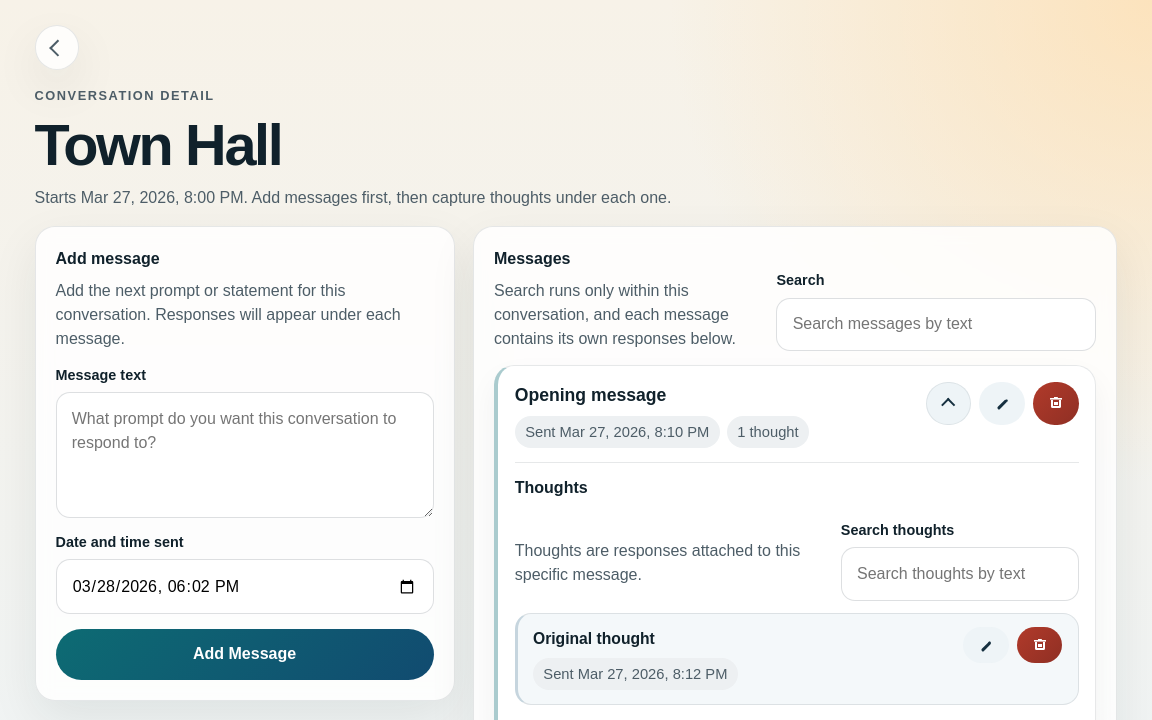
Test: ConversationDetailPage › collapses and expands a message card
The width and height of the screenshot is (1152, 720).
expect the heading "Thoughts" is shown: met, box [515,479,588,496]
Click the button named "Collapse message".
click(949, 403)  # box [926,382,972,425]
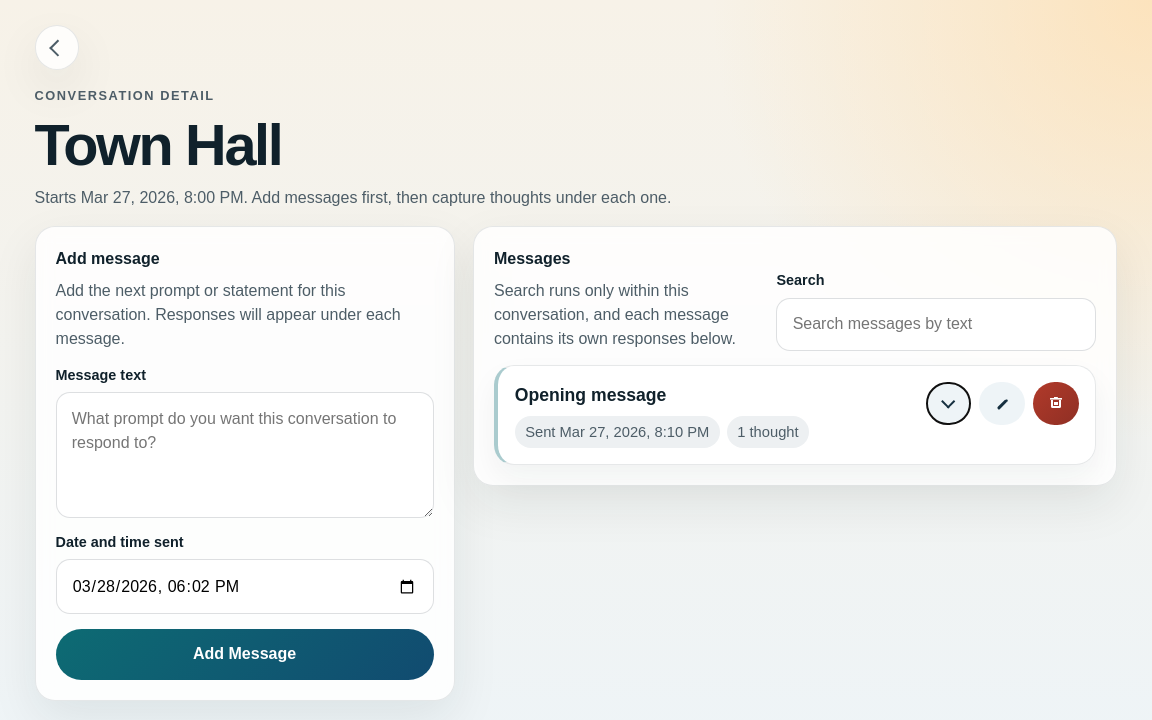
Click the button named "Expand message".
click(949, 403)  # box [926,382,972,425]
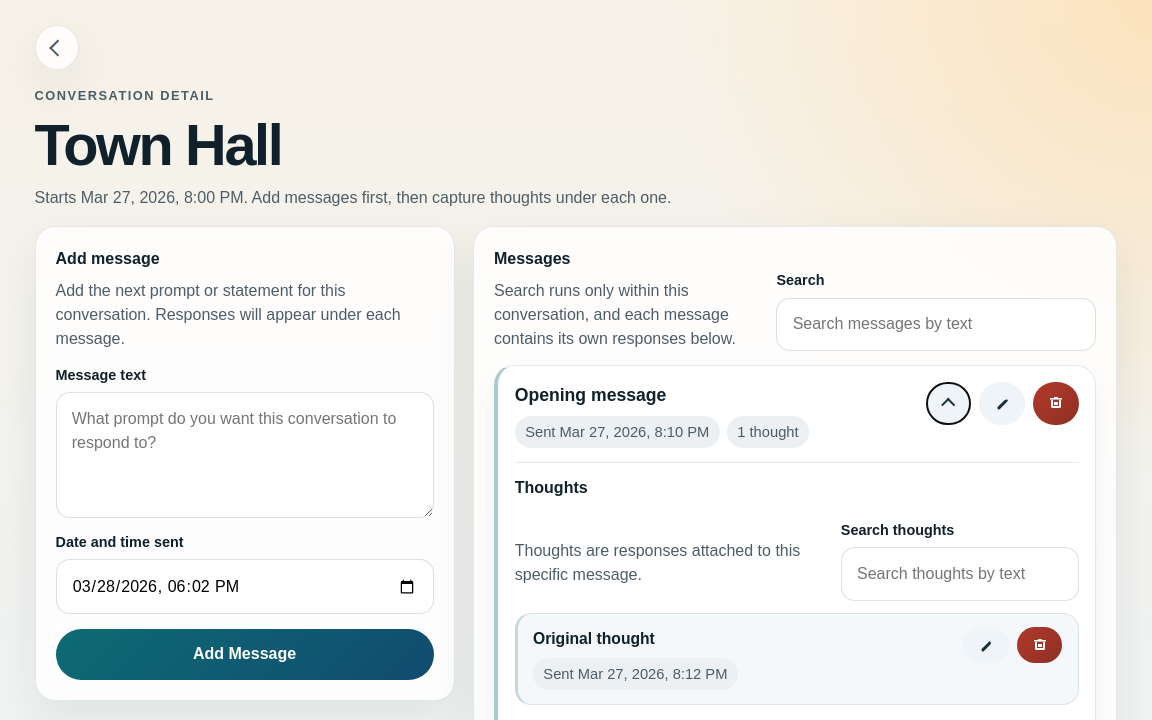
expect the heading "Thoughts" is shown: met, box [515,479,588,496]
